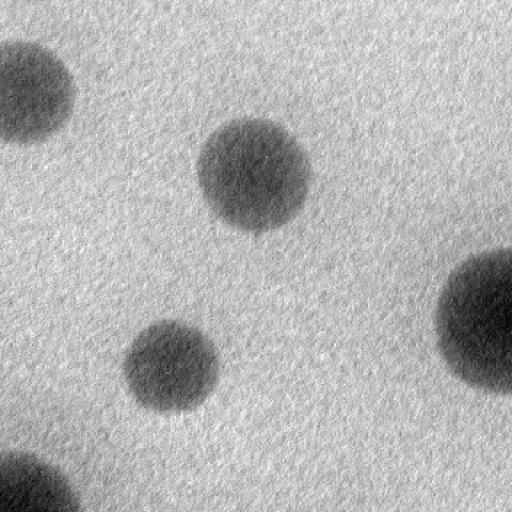Nanoparticles: (196, 116, 314, 233), (435, 247, 511, 394), (122, 320, 222, 414), (0, 39, 77, 141), (2, 447, 80, 509)
